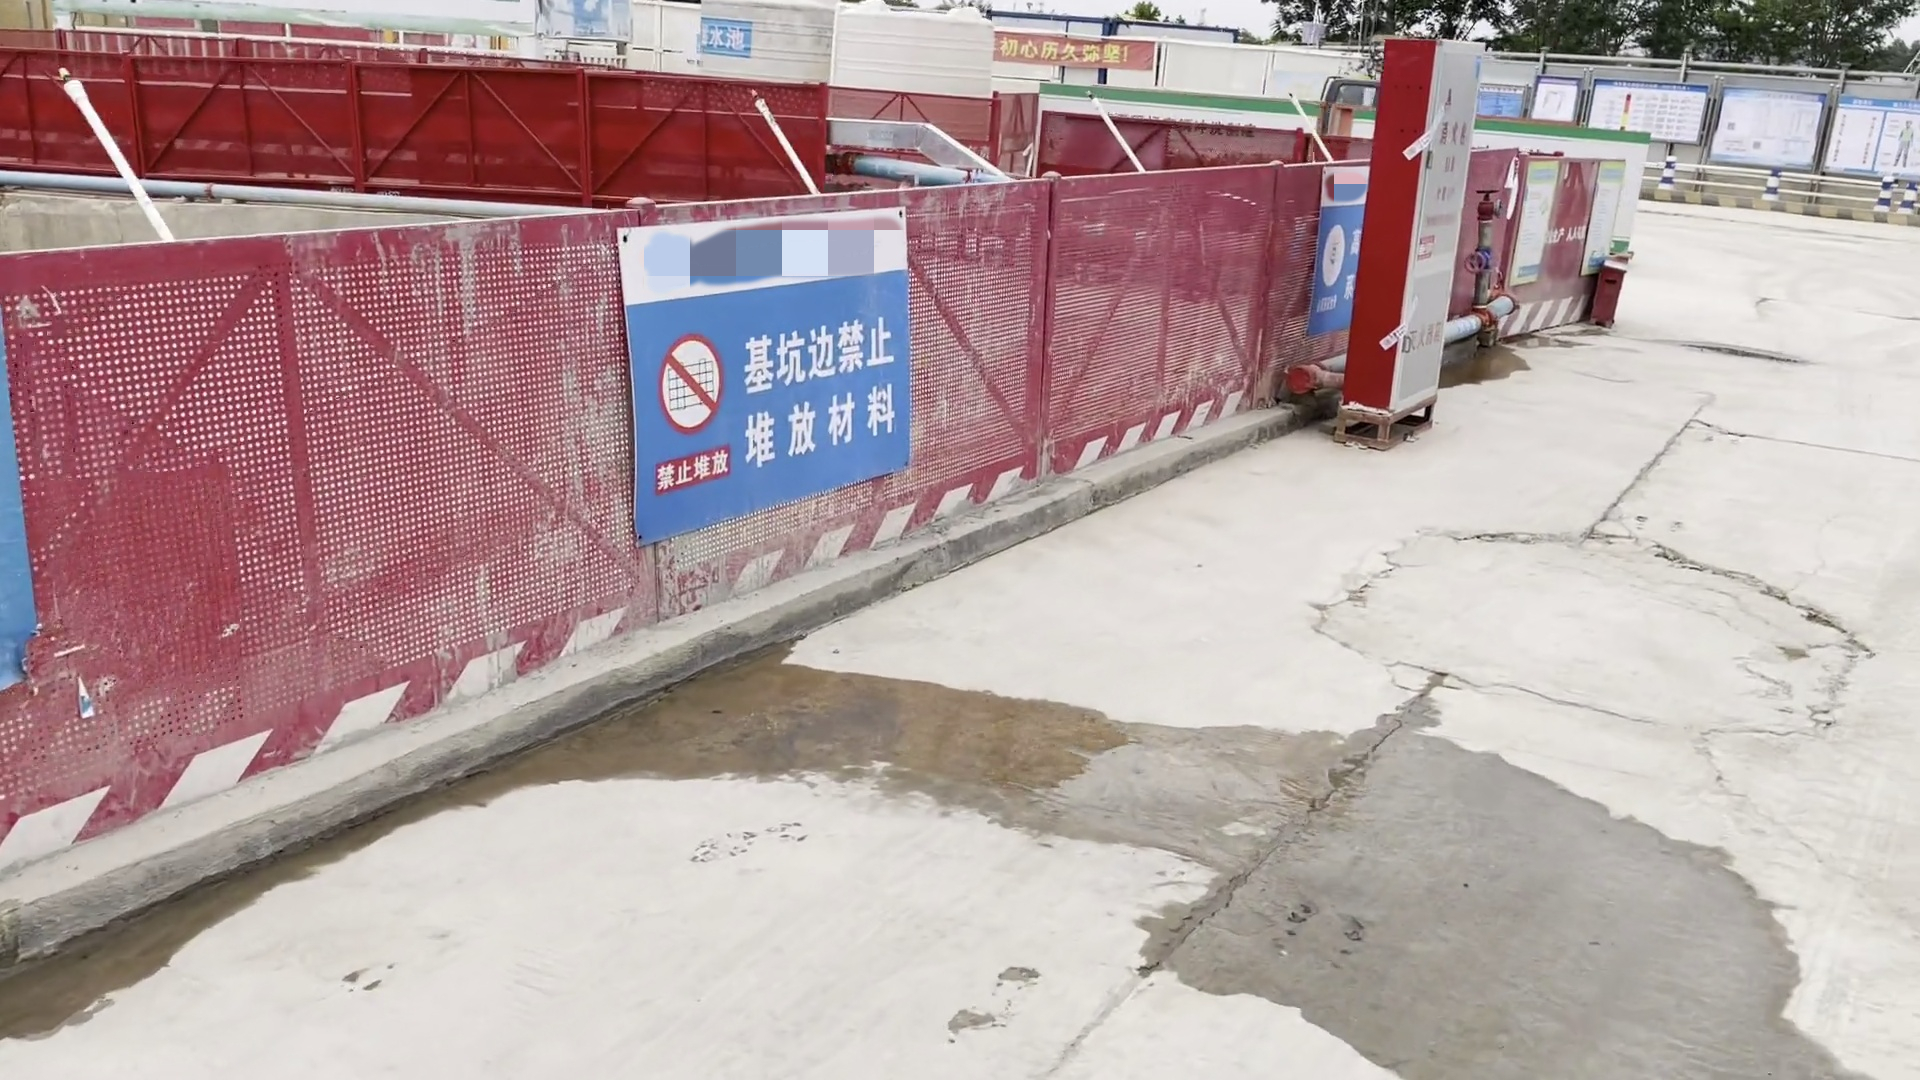fence: (8, 150, 1308, 878)
slogan: (611, 214, 928, 533), (1313, 161, 1369, 345), (985, 22, 1162, 74), (688, 9, 764, 67)
